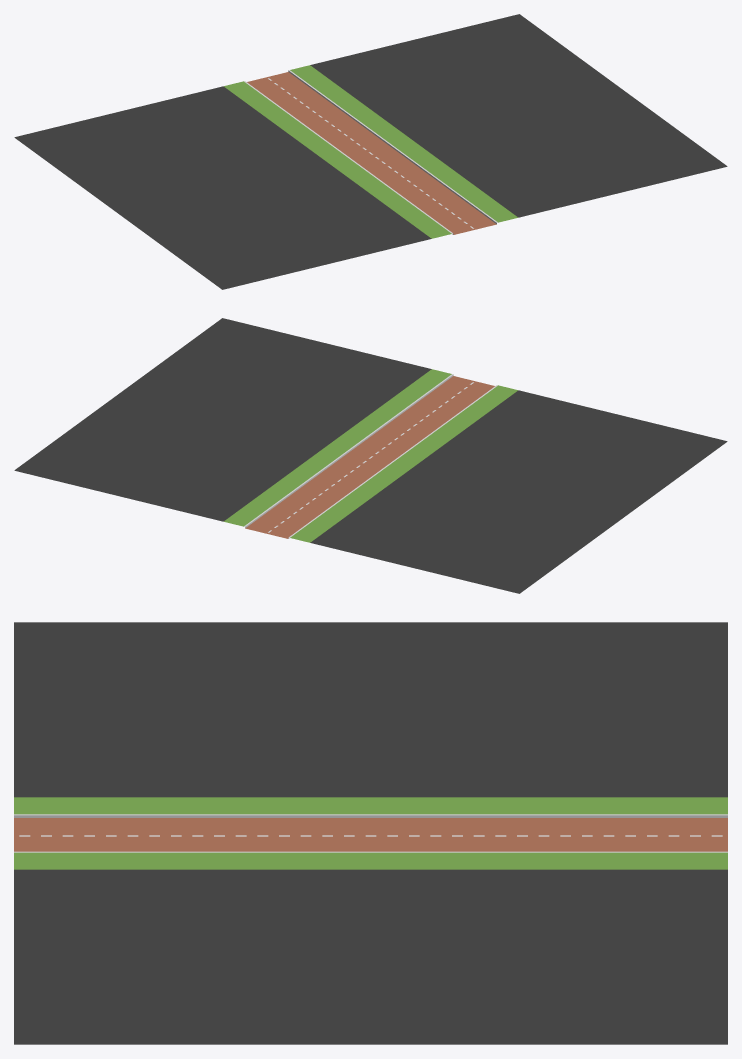
File: Suburb_Road_Straight.fbx
The picture shows the model from 3 angles, top to bottom: view 1: azimuth 30°, elevation 25°; view 2: azimuth 150°, elevation 25°; view 3: azimuth 270°, elevation 25°; orthographic projection. The views are drawn at different scales.
Visible parts, largest first — view 1: Suburb_Road_Straight; view 2: Suburb_Road_Straight; view 3: Suburb_Road_Straight.
Part boxes in pixels (box(x1,y1,x2,y2)): Suburb_Road_Straight: box(14, 14, 727, 289); Suburb_Road_Straight: box(14, 318, 727, 593); Suburb_Road_Straight: box(14, 622, 727, 1044).
Bounding box in the file's own units: 70 × 0.2 × 50.
